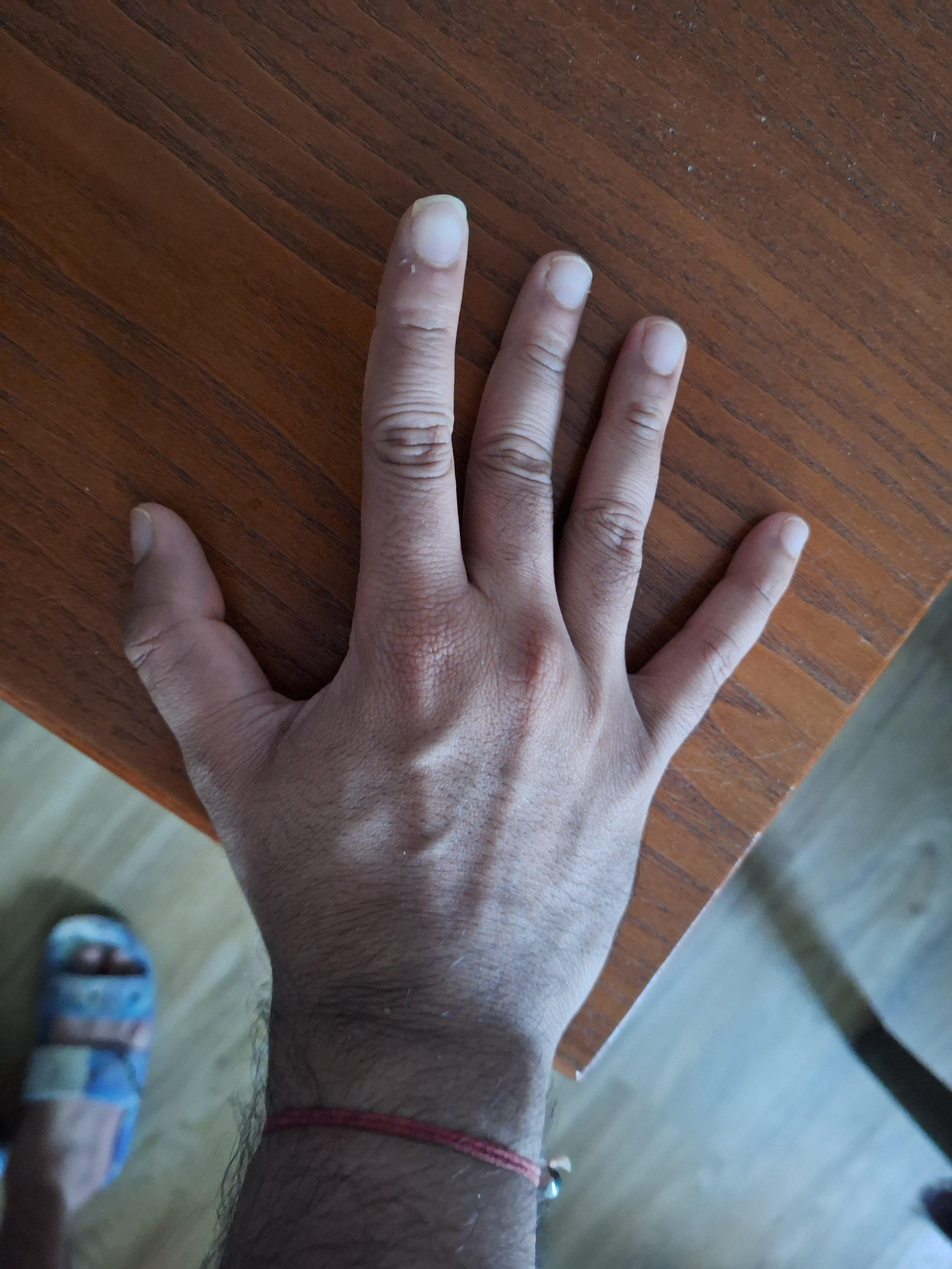Fingernail: (412, 194, 466, 265), (642, 321, 685, 377), (546, 256, 592, 308), (130, 508, 152, 563), (780, 517, 809, 556)
